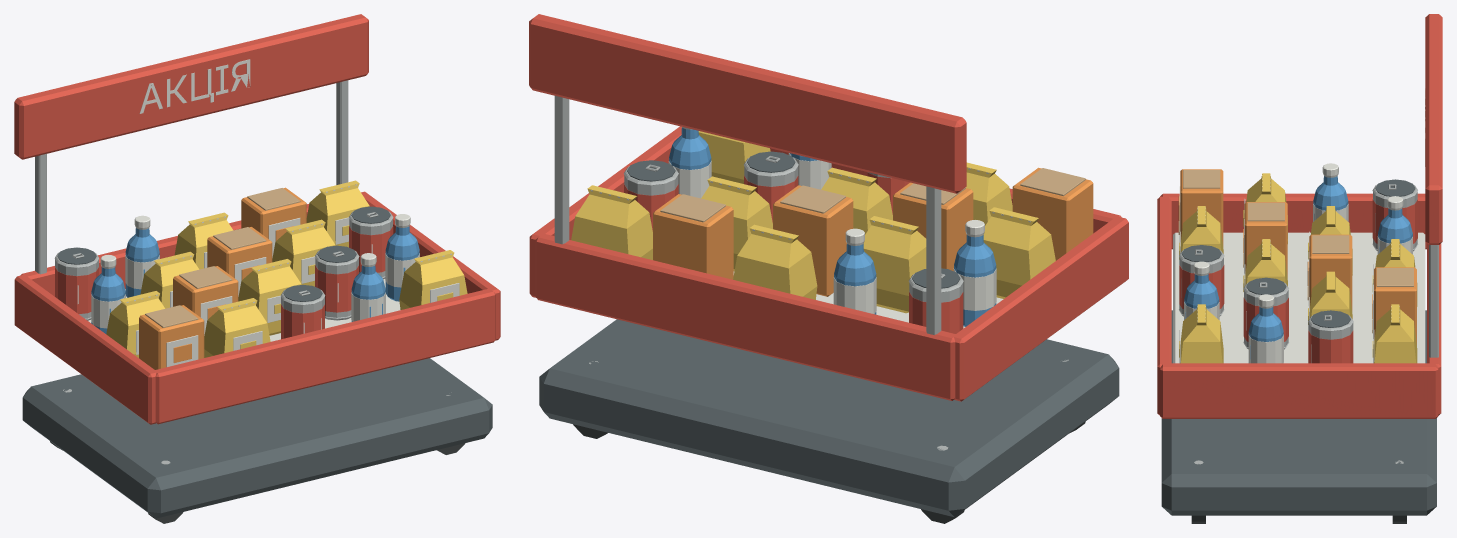
The model's file is Shelf_Discounts.fbx.
3 views of the same model, side by side, from view 1: azimuth 30°, elevation 25°; view 2: azimuth 150°, elevation 25°; view 3: azimuth 270°, elevation 25° (orthographic). The views are drawn at different scales.
Visible parts, largest first — view 1: Shelf_Discounts__LPCXFER, Shelf_Discounts__Discount_Header__LPCXFER, Shelf_Discounts_Item_1_F_1_box__LPCXFER, Shelf_Discounts_Item_1_F_5_bag__LPCXFER, Shelf_Discounts_Item_1_F_2_bag__LPCXFER, Shelf_Discounts_Item_2_F_4_can__LPCXFER, Shelf_Discounts_Item_3_F_3_box__LPCXFER, Shelf_Discounts_Item_2_F_2_box__LPCXFER, Shelf_Discounts_Item_4_F_4_box__LPCXFER, Shelf_Discounts_Item_4_F_1_can__LPCXFER, Shelf_Discounts_Item_2_F_3_bag__LPCXFER, Shelf_Discounts_Item_3_F_4_bag__LPCXFER (+11 smaller); view 2: Shelf_Discounts__LPCXFER, Shelf_Discounts__Discount_Header__LPCXFER, Shelf_Discounts_Item_4_F_4_box__LPCXFER, Shelf_Discounts_Item_3_F_3_box__LPCXFER, Shelf_Discounts_Item_1_F_1_box__LPCXFER, Shelf_Discounts_Item_4_F_3_bag__LPCXFER, Shelf_Discounts_Item_4_F_5_bag__LPCXFER, Shelf_Discounts_Item_2_F_1_bag__LPCXFER, Shelf_Discounts_Item_3_F_2_bag__LPCXFER, Shelf_Discounts_Item_2_F_2_box__LPCXFER, Shelf_Discounts_Item_3_F_1_bottle__LPCXFER, Shelf_Discounts_Item_4_F_2_bottle__LPCXFER (+9 smaller); view 3: Shelf_Discounts__LPCXFER, Shelf_Discounts__Discount_Header__LPCXFER, Shelf_Discounts_Item_3_F_5_can__LPCXFER, Shelf_Discounts_Item_3_F_3_box__LPCXFER, Shelf_Discounts_Item_1_F_1_box__LPCXFER, Shelf_Discounts_Item_4_F_5_bag__LPCXFER, Shelf_Discounts_Item_4_F_4_box__LPCXFER, Shelf_Discounts_Item_1_F_5_bag__LPCXFER, Shelf_Discounts_Item_2_F_2_box__LPCXFER, Shelf_Discounts_Item_2_F_5_bottle__LPCXFER, Shelf_Discounts_Item_2_F_4_can__LPCXFER, Shelf_Discounts_Item_4_F_1_can__LPCXFER (+10 smaller).
Boxes of the visible parts, x1,y1,x2,y2 form: Shelf_Discounts__LPCXFER: [14, 80, 500, 523]; Shelf_Discounts__Discount_Header__LPCXFER: [14, 14, 368, 159]; Shelf_Discounts_Item_1_F_1_box__LPCXFER: [139, 305, 204, 369]; Shelf_Discounts_Item_1_F_5_bag__LPCXFER: [399, 250, 467, 309]; Shelf_Discounts_Item_1_F_2_bag__LPCXFER: [204, 298, 270, 357]; Shelf_Discounts_Item_2_F_4_can__LPCXFER: [315, 245, 359, 320]; Shelf_Discounts_Item_3_F_3_box__LPCXFER: [207, 227, 272, 296]; Shelf_Discounts_Item_2_F_2_box__LPCXFER: [173, 266, 238, 335]; Shelf_Discounts_Item_4_F_4_box__LPCXFER: [241, 187, 306, 257]; Shelf_Discounts_Item_4_F_1_can__LPCXFER: [54, 247, 99, 320]; Shelf_Discounts_Item_2_F_3_bag__LPCXFER: [238, 259, 301, 335]; Shelf_Discounts_Item_3_F_4_bag__LPCXFER: [272, 219, 335, 286]; Shelf_Discounts__LPCXFER: [529, 95, 1128, 523]; Shelf_Discounts__Discount_Header__LPCXFER: [529, 14, 966, 193]; Shelf_Discounts_Item_4_F_4_box__LPCXFER: [653, 194, 733, 279]; Shelf_Discounts_Item_3_F_3_box__LPCXFER: [773, 185, 853, 296]; Shelf_Discounts_Item_1_F_1_box__LPCXFER: [1012, 167, 1093, 260]; Shelf_Discounts_Item_4_F_3_bag__LPCXFER: [733, 224, 817, 299]; Shelf_Discounts_Item_4_F_5_bag__LPCXFER: [571, 185, 652, 259]; Shelf_Discounts_Item_2_F_1_bag__LPCXFER: [983, 207, 1055, 298]; Shelf_Discounts_Item_3_F_2_bag__LPCXFER: [863, 216, 926, 313]; Shelf_Discounts_Item_2_F_2_box__LPCXFER: [893, 182, 973, 271]; Shelf_Discounts_Item_3_F_1_bottle__LPCXFER: [953, 220, 996, 326]; Shelf_Discounts_Item_4_F_2_bottle__LPCXFER: [833, 228, 876, 314]; Shelf_Discounts__LPCXFER: [1157, 193, 1441, 523]; Shelf_Discounts__Discount_Header__LPCXFER: [1425, 14, 1442, 244]; Shelf_Discounts_Item_3_F_5_can__LPCXFER: [1308, 310, 1353, 363]; Shelf_Discounts_Item_3_F_3_box__LPCXFER: [1307, 234, 1352, 310]; Shelf_Discounts_Item_1_F_1_box__LPCXFER: [1178, 169, 1223, 246]; Shelf_Discounts_Item_4_F_5_bag__LPCXFER: [1372, 304, 1417, 363]; Shelf_Discounts_Item_4_F_4_box__LPCXFER: [1372, 267, 1416, 344]; Shelf_Discounts_Item_1_F_5_bag__LPCXFER: [1179, 304, 1223, 363]; Shelf_Discounts_Item_2_F_2_box__LPCXFER: [1243, 202, 1287, 277]; Shelf_Discounts_Item_2_F_5_bottle__LPCXFER: [1248, 294, 1283, 363]; Shelf_Discounts_Item_2_F_4_can__LPCXFER: [1243, 277, 1288, 349]; Shelf_Discounts_Item_4_F_1_can__LPCXFER: [1372, 179, 1418, 251].
Bounding box in the file's own units: 145 × 135 × 99.5.
